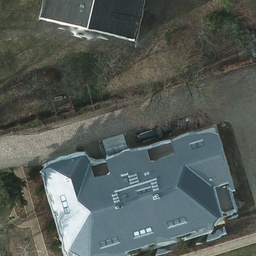car: (135, 122, 170, 145)
